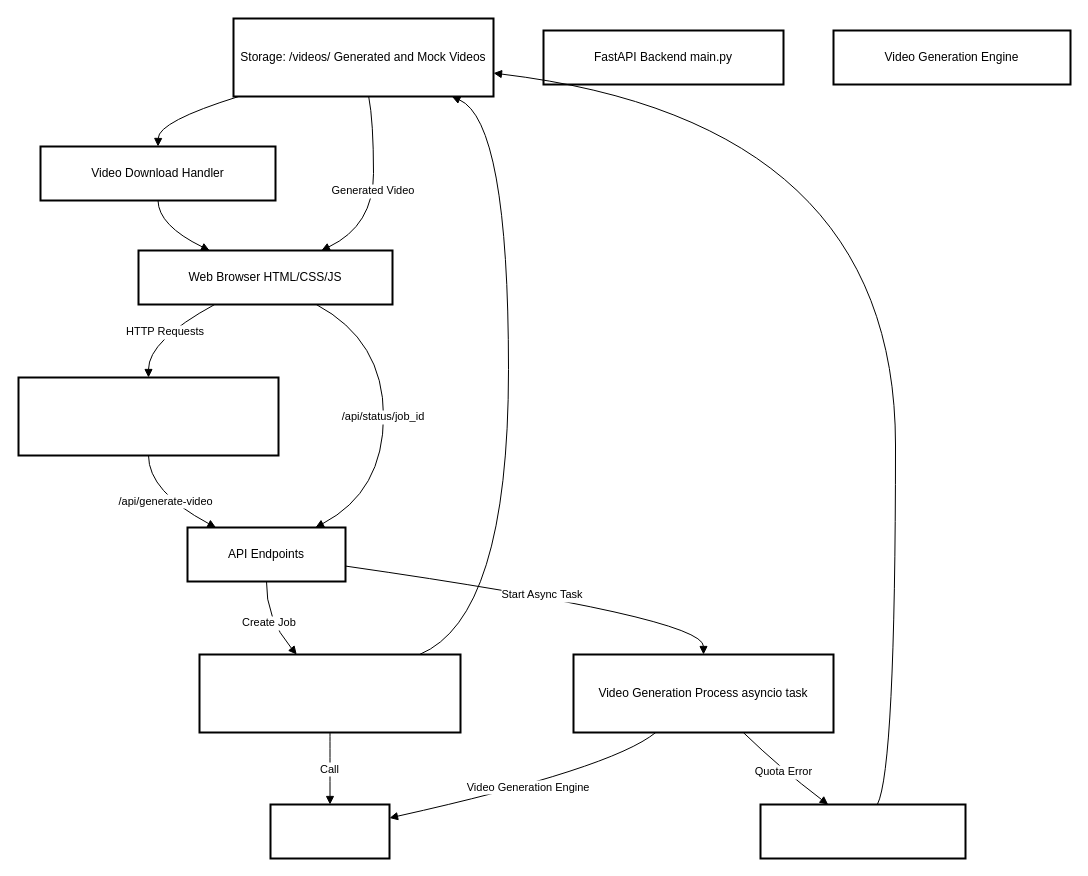
Image size: 1088x876. Some labels were removed from this diagram. The box of each missing label's shape, as (x1, y1, x2, y2) in pixels:
Frontend: script.js, style.css, index.html: (17, 376, 279, 456)
Job Manager VIDEO_GENERATION_STATUS: (198, 653, 461, 733)
Mock Video Fallback: (759, 803, 966, 859)
Vidu API: (269, 803, 390, 859)
